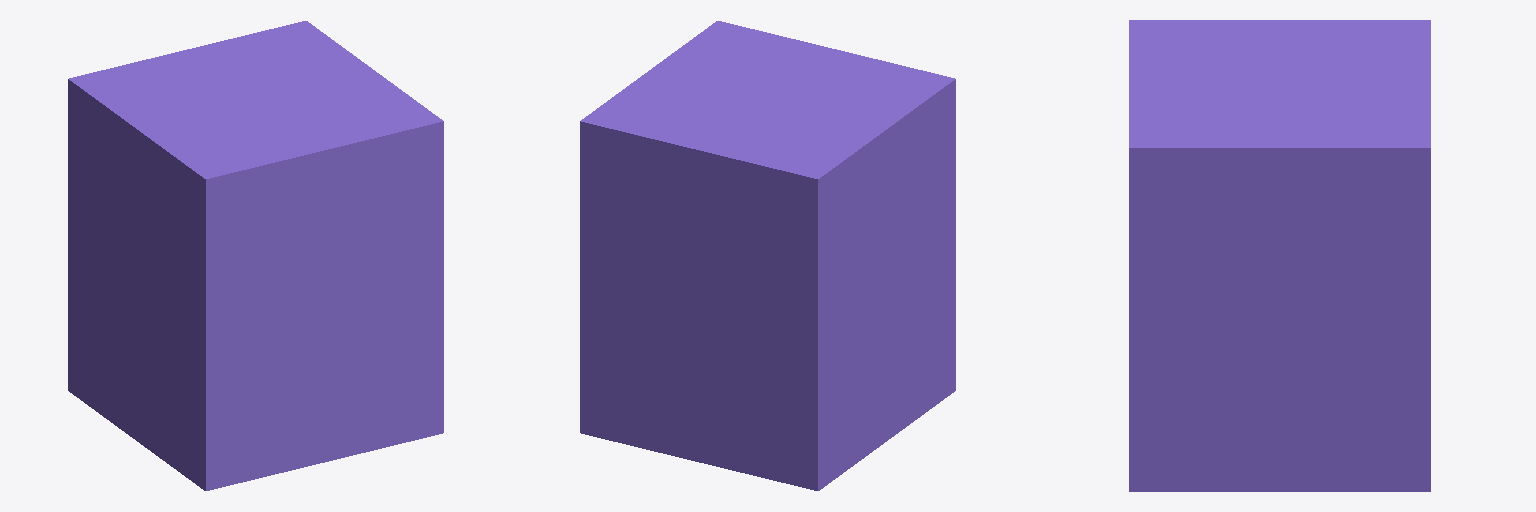
URDF robot description (blue_can):
<robot name="blue_can">

` <link name="can">
    <contact>
      <lateral_friction value="1"/>
    </contact>
    <inertial>
      <mass value="0.01"/>
      <inertia ixx="1.0" ixy="0.0" ixz="0.0" iyy="1.0" iyz="0.0" izz="1.0"/>
    </inertial>
    <visual>
      <origin rpy="0 0 0" xyz="0 0 0"/>
      <geometry>
        <box size = "0.12 0.12 0.15"/>
      </geometry>
      <material name = "blue">
        <color rgba="0.6 0.5 0.9 1"/>
      </material>
    </visual>
    <collision>
      <origin rpy="0 0 0" xyz="0 0 0"/>
      <geometry>
        <box size = "0.1 0.1 0.15"/>
      </geometry>
    </collision>
  </link>

</robot>

--- Facts derived from the render (not from the file) ---
3 views of the same robot in one strip: view 1: azimuth 30°, elevation 25°; view 2: azimuth 150°, elevation 25°; view 3: azimuth 270°, elevation 25° (orthographic).
Model blue_can with 1 links and 0 joints (none), rooted at can, posed every joint at zero.
Visible links, largest first — view 1: can; view 2: can; view 3: can.
Boxes of the visible links, x1,y1,x2,y2 form: can: [68, 21, 443, 490]; can: [580, 21, 955, 490]; can: [1129, 20, 1430, 491].
Bounding box of the posed robot: 0.12 × 0.12 × 0.15 m (x, y, z).
Geometry: primitives only (box / cylinder / sphere), no mesh files.